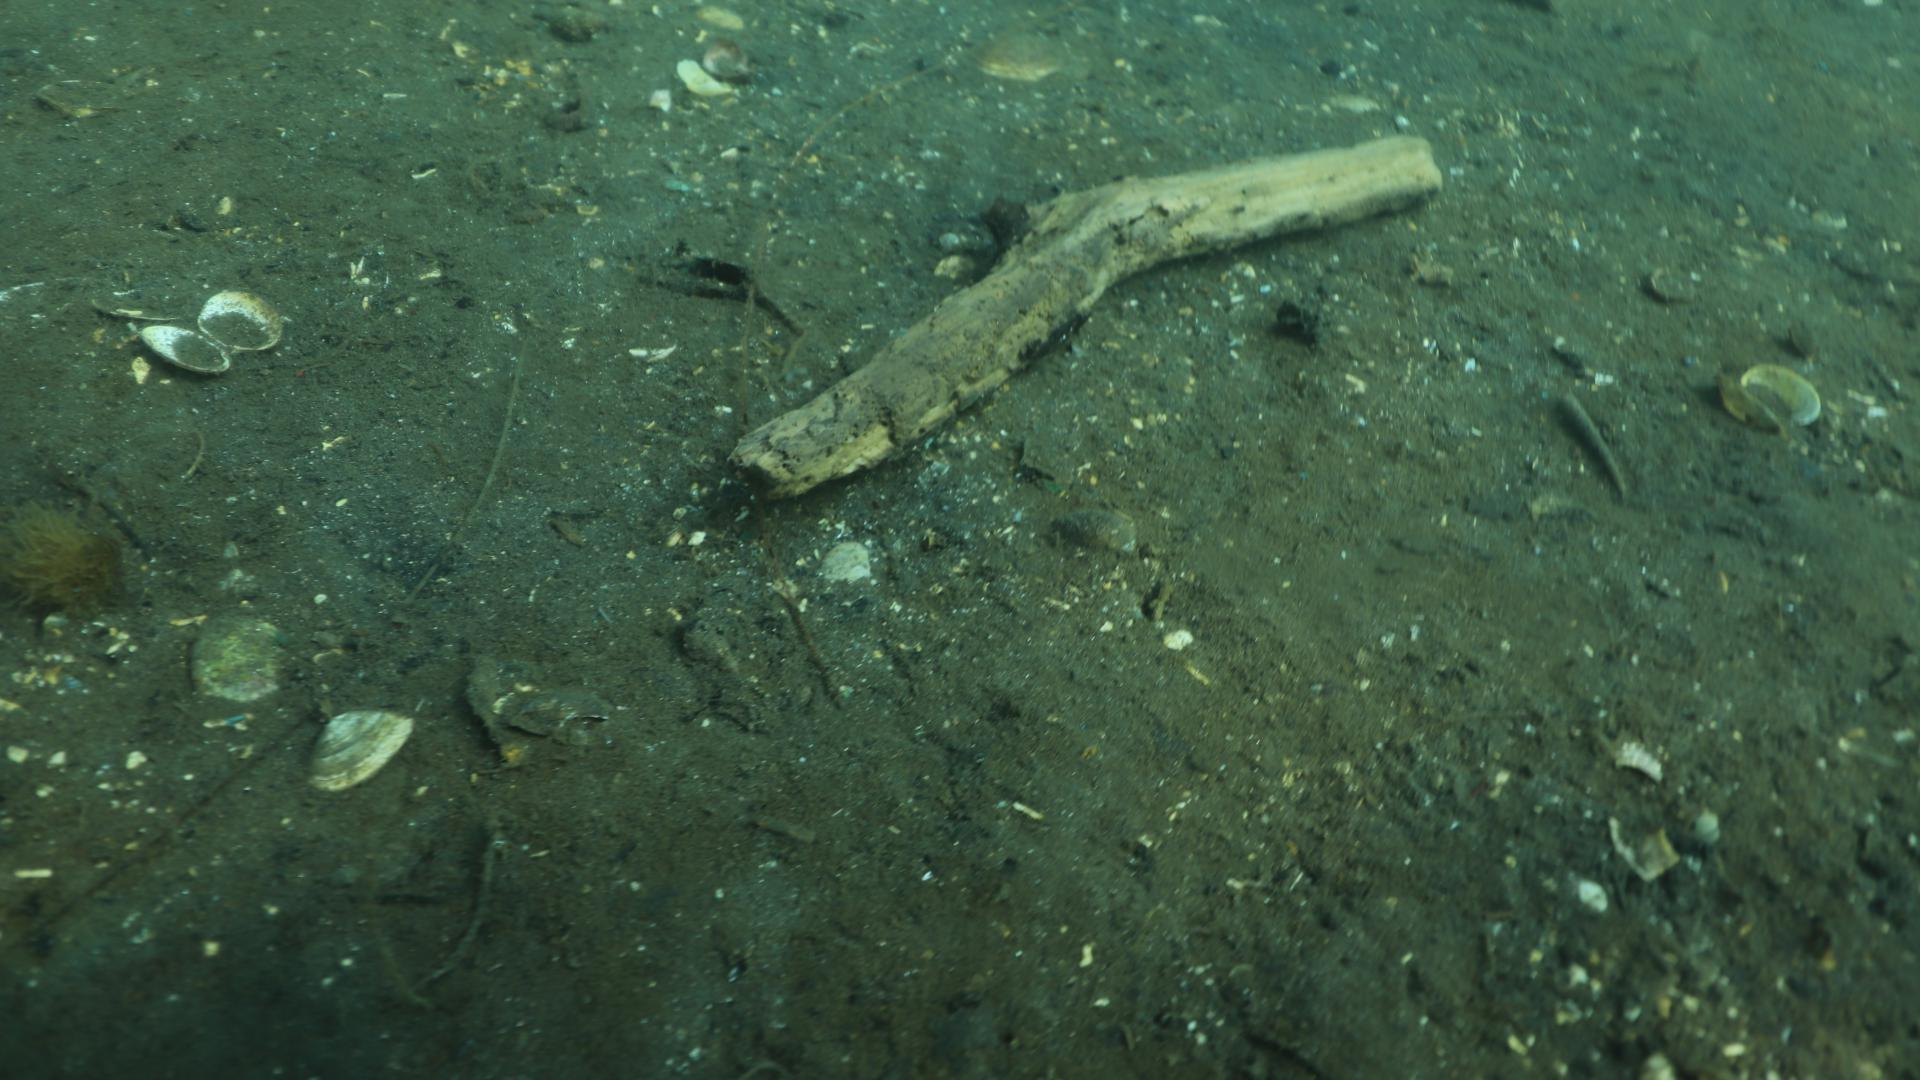wood: (723, 133, 1443, 500)
